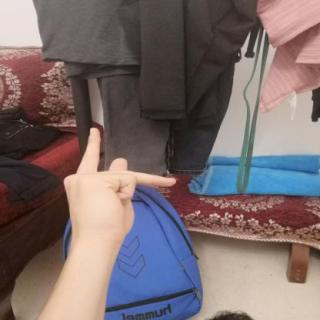DHAA: (54, 121, 184, 252)
